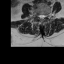CCS_normal: (40, 12, 42, 21)
LFS_normal: (44, 12, 46, 19)
LLS_normal: (42, 12, 44, 20)
RFS_normal: (36, 12, 38, 18)
RLS_normal: (38, 13, 40, 19)
